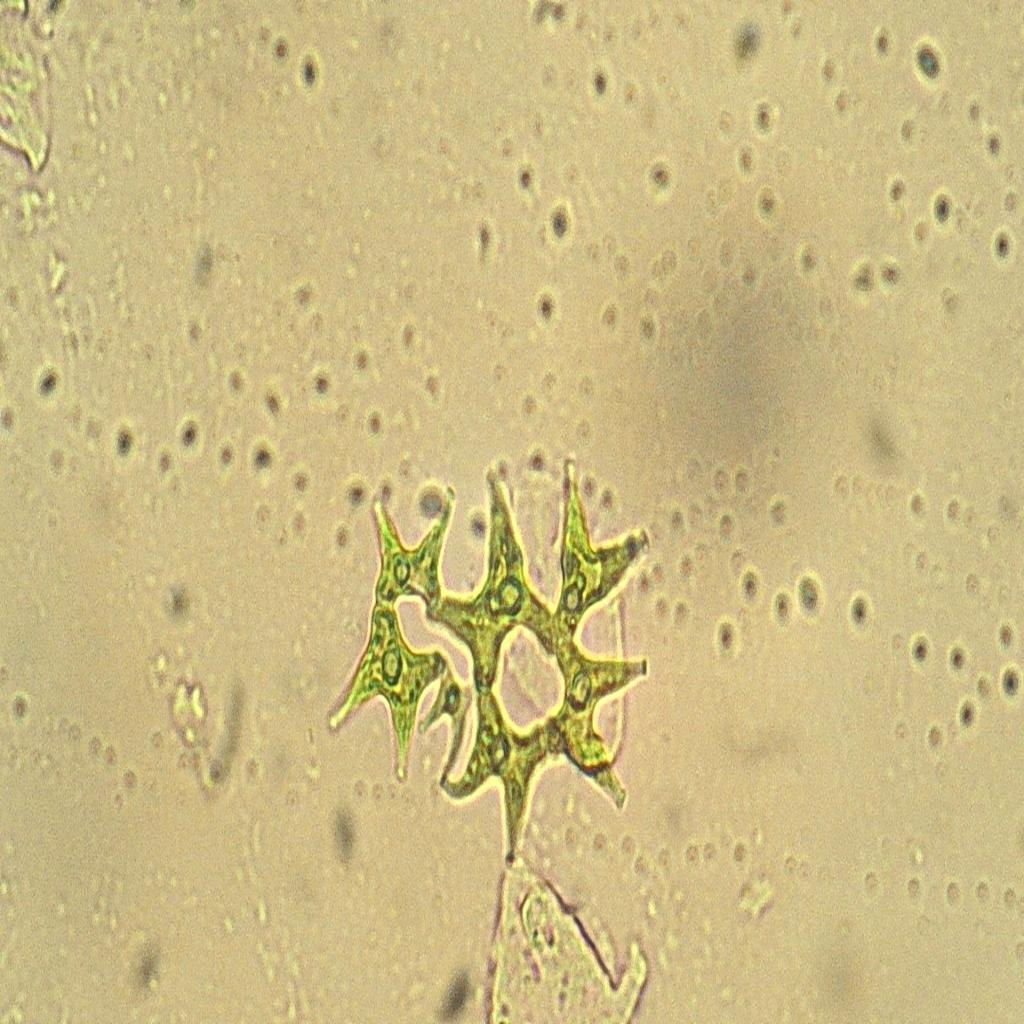Pediastrum_1TH: (317, 431, 663, 887)
